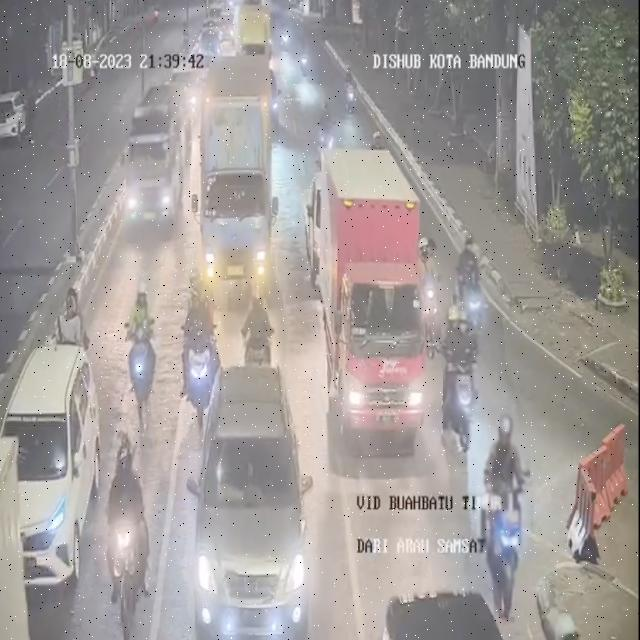cars: (302, 144, 427, 458), (194, 361, 313, 640), (0, 340, 98, 583), (374, 587, 533, 640)
motorcycle: (478, 410, 530, 611), (102, 430, 151, 627), (442, 303, 481, 443), (178, 284, 218, 419), (127, 280, 164, 423), (453, 233, 486, 327), (443, 363, 478, 447), (242, 287, 276, 370), (547, 614, 603, 640), (315, 99, 336, 158), (342, 72, 360, 119)
truck: (198, 57, 278, 302), (126, 90, 190, 234), (238, 0, 275, 59)
